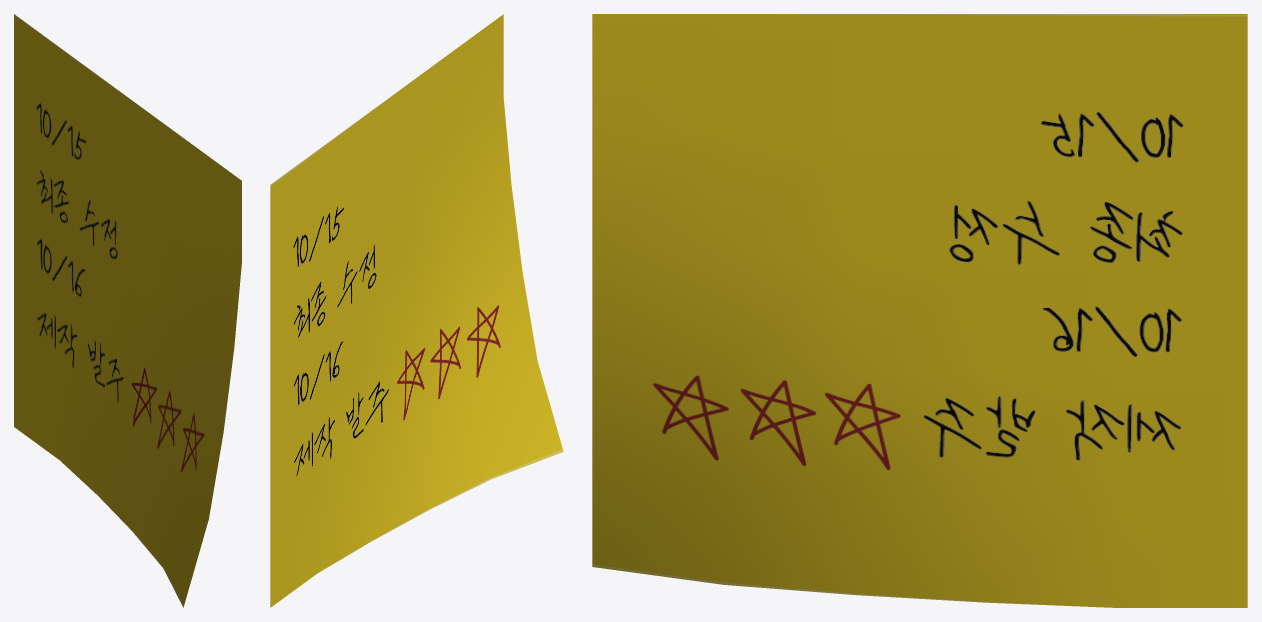
The model's file is memo5.fbx.
3 views of the same model, side by side, from view 1: azimuth 30°, elevation 25°; view 2: azimuth 150°, elevation 25°; view 3: azimuth 270°, elevation 25° (orthographic). The views are drawn at different scales.
Parts seen in each view (by area): view 1: memo10; view 2: memo10; view 3: memo10.
Boxes of the visible parts, x1,y1,x2,y2 form: memo10: (14, 14, 241, 607); memo10: (270, 14, 563, 607); memo10: (592, 14, 1247, 607).
Size of the model in its own units: 0.000723 by 0.00488 by 0.00488.
Materials: 1 (1 with a texture image).
